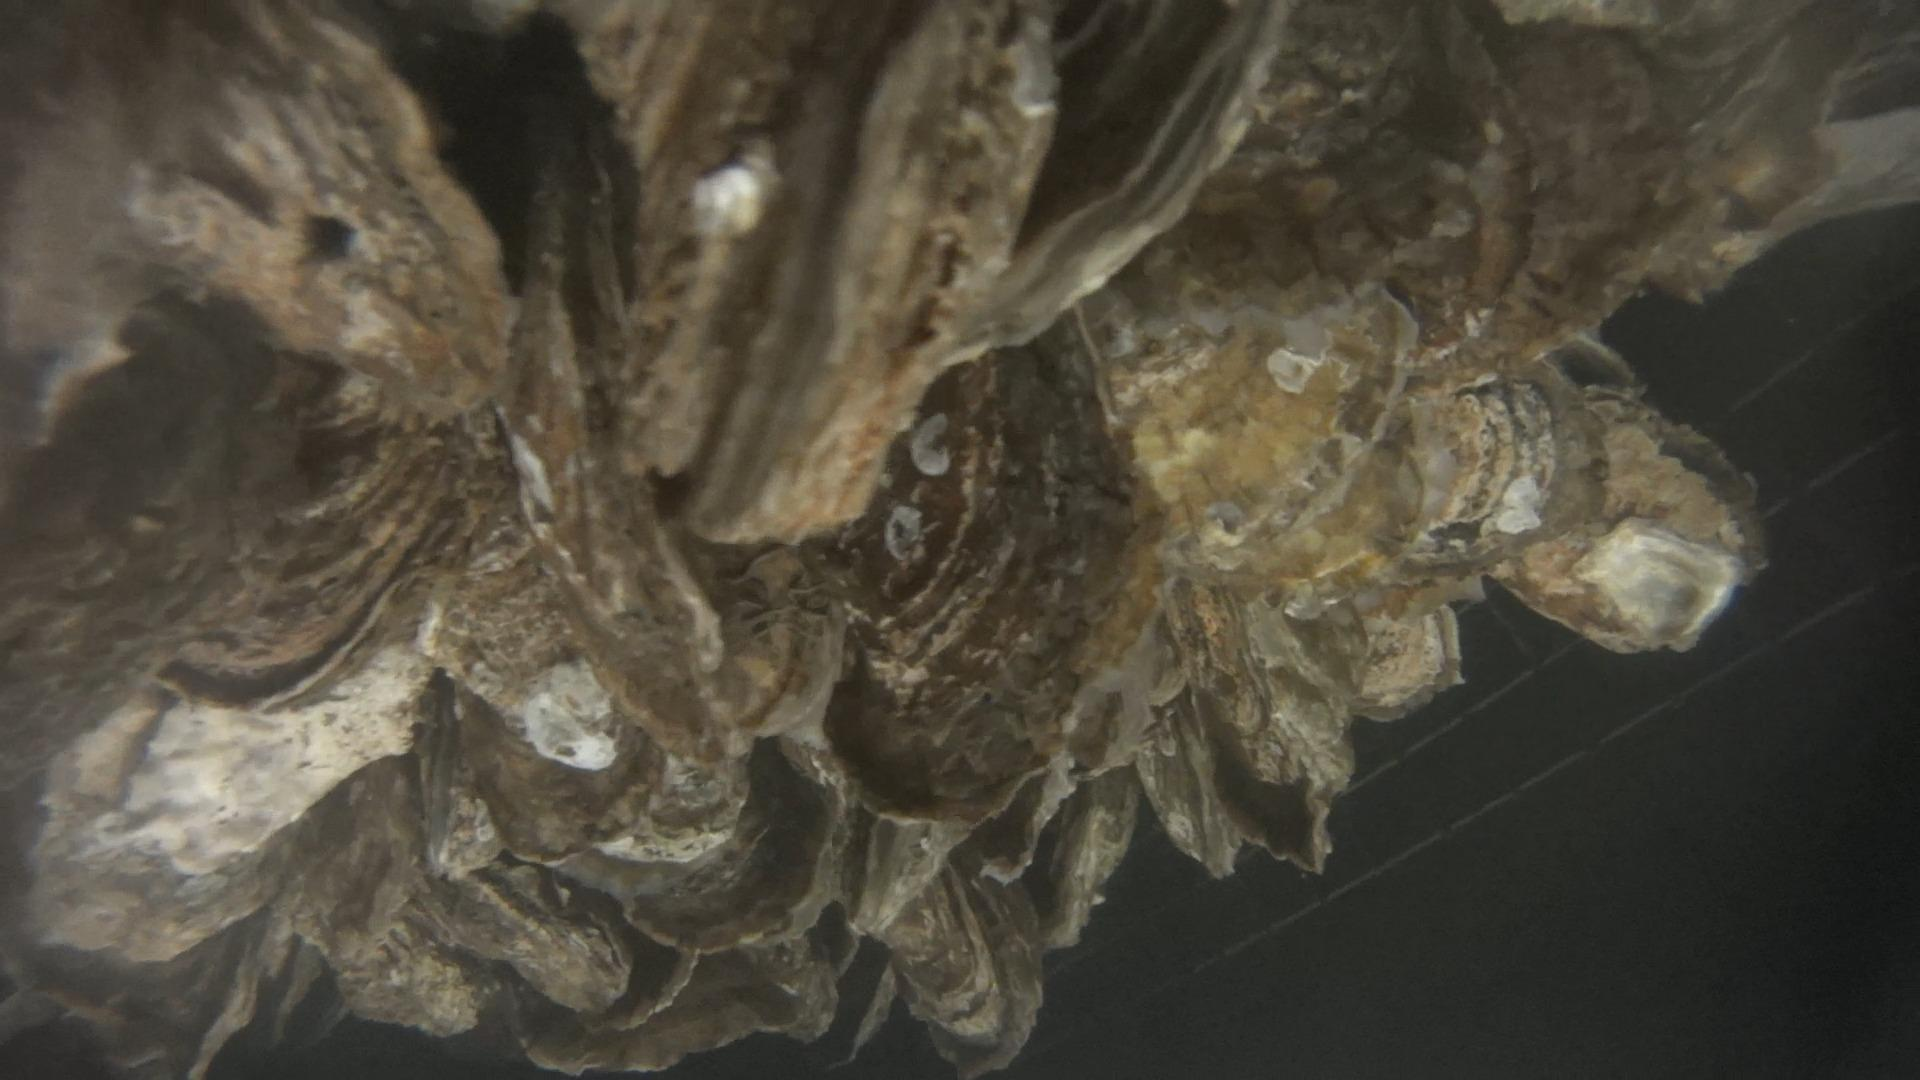3: (1493, 389, 1766, 657), (620, 732, 852, 951), (397, 852, 640, 1013)
Oyster-Closed: (491, 84, 845, 771), (940, 0, 1300, 375)
Oyster-Open: (688, 0, 1055, 547), (820, 316, 1160, 827), (1083, 0, 1542, 367), (542, 1, 887, 471), (1419, 20, 1733, 365), (1102, 305, 1408, 531), (1164, 564, 1350, 869), (1377, 355, 1606, 584), (1166, 429, 1431, 620), (497, 948, 836, 1079), (878, 837, 1048, 1077), (1284, 578, 1466, 725), (1055, 580, 1182, 783), (1021, 765, 1142, 947), (1138, 691, 1242, 878), (844, 804, 960, 939), (963, 761, 1080, 877)
